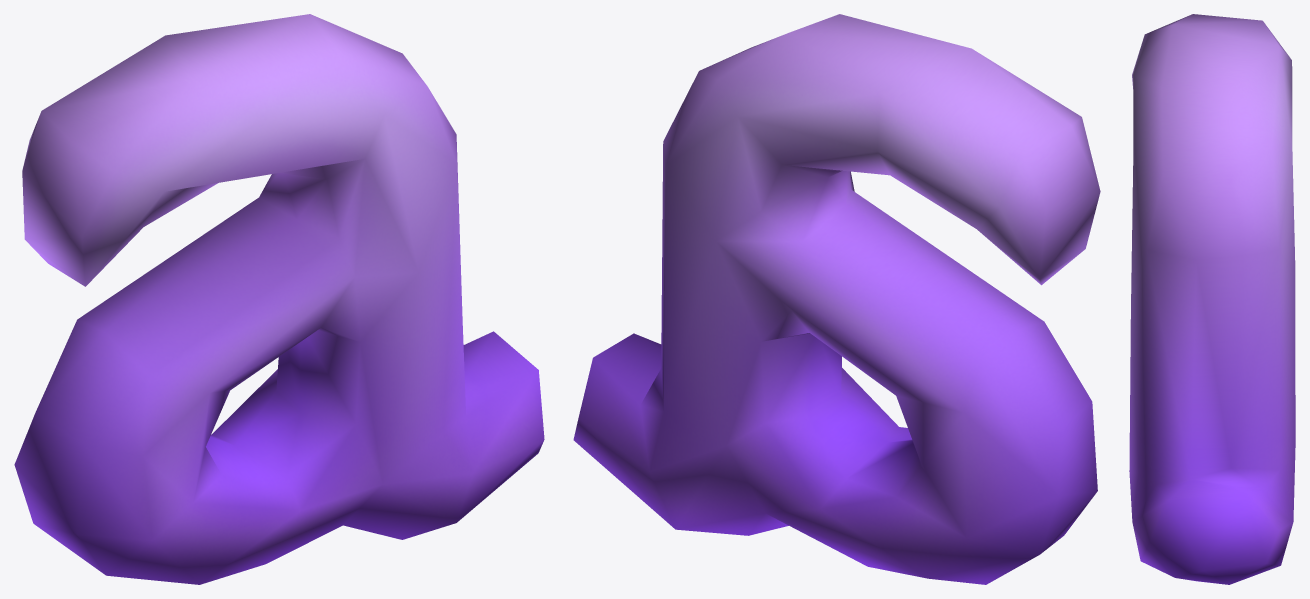
3 views of the same model, side by side, from view 1: azimuth 30°, elevation 25°; view 2: azimuth 150°, elevation 25°; view 3: azimuth 270°, elevation 25° (orthographic). The views are drawn at different scales.
Parts seen in each view (by area): view 1: Processed_Mesh0_Geometry; view 2: Processed_Mesh0_Geometry; view 3: Processed_Mesh0_Geometry.
Boxes of the visible parts, x1=… form: Processed_Mesh0_Geometry: x1=14, y1=14, x2=544, y2=584; Processed_Mesh0_Geometry: x1=573, y1=14, x2=1100, y2=584; Processed_Mesh0_Geometry: x1=1129, y1=14, x2=1295, y2=584.
Size of what is drawn, in the model's own units: 0.0595 by 0.0598 by 0.0197.
1 material, 1 textured.
